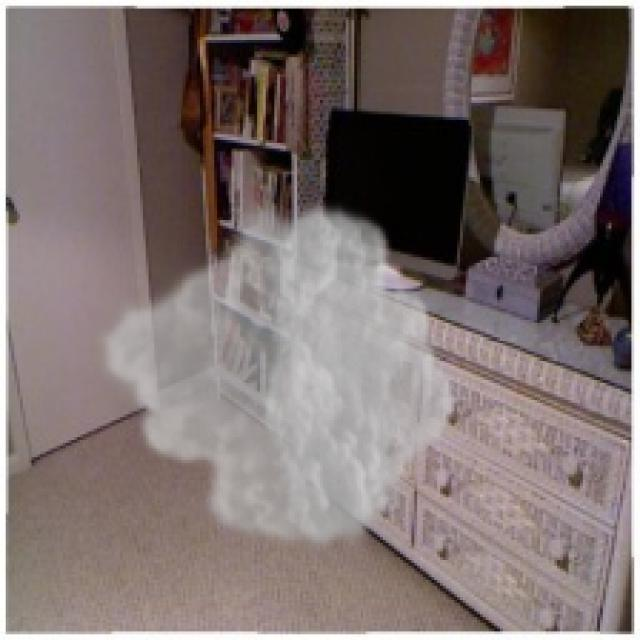Smoke: (94, 194, 460, 557)
